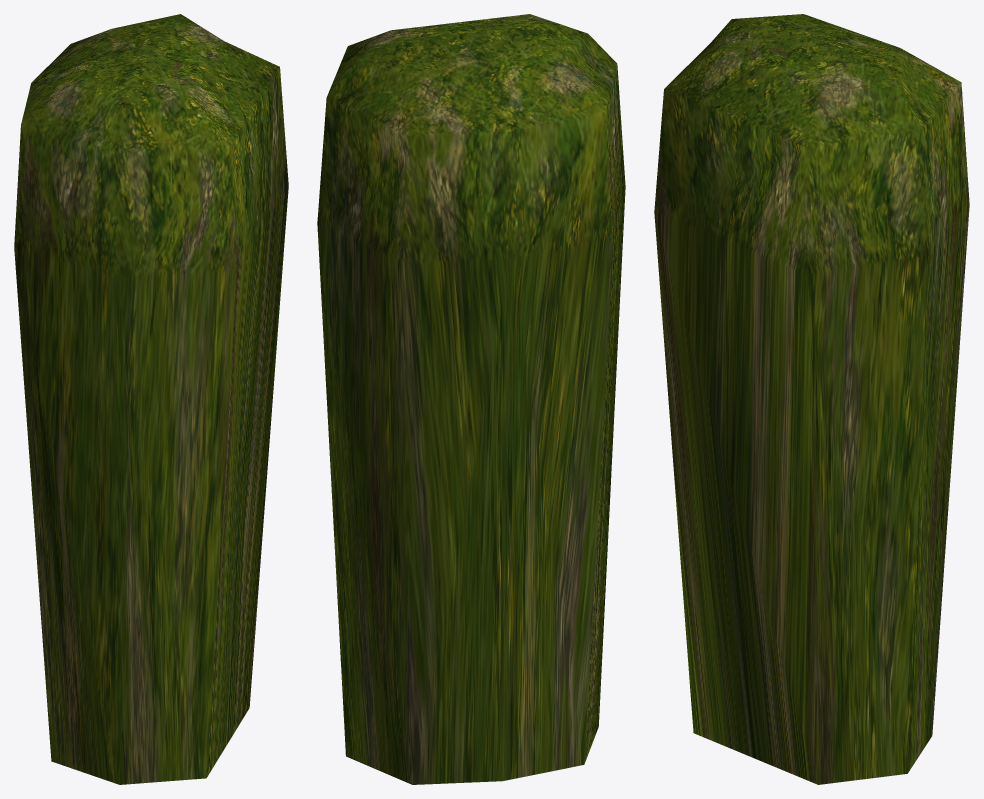
The model's file is OVERHILL_A_01_BOX05.fbx.
3 views of the same model, side by side, from view 1: azimuth 30°, elevation 25°; view 2: azimuth 150°, elevation 25°; view 3: azimuth 270°, elevation 25° (orthographic). The views are drawn at different scales.
Parts seen in each view (by area): view 1: OVERHILL_A_01_BOX05; view 2: OVERHILL_A_01_BOX05; view 3: OVERHILL_A_01_BOX05.
Part boxes in pixels (<box>): OVERHILL_A_01_BOX05: <box>14,14,288,784</box>; OVERHILL_A_01_BOX05: <box>317,14,625,784</box>; OVERHILL_A_01_BOX05: <box>654,14,969,784</box>.
Size of the model in its own units: 19249 by 46776 by 19234.
1 material, 1 textured.
